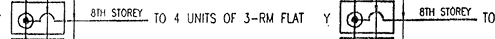Single Phase Tap-Off Unit: (337, 0, 398, 37), (6, 2, 68, 36)
